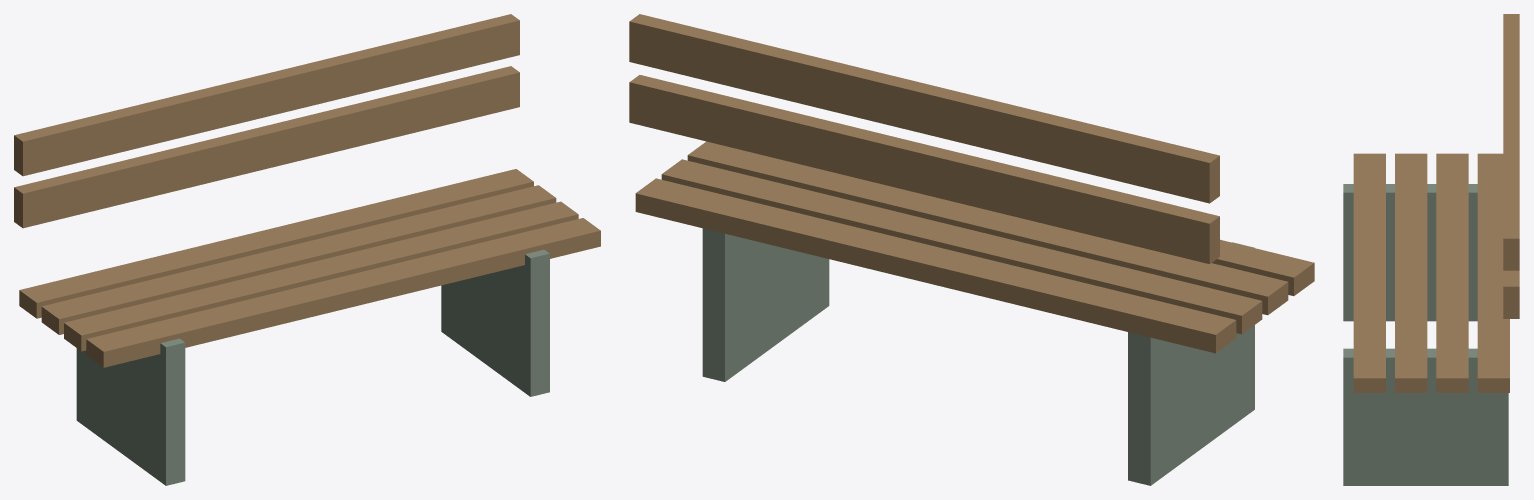
The model's file is bench.glb.
3 renders of one model, left to right at view 1: azimuth 30°, elevation 25°; view 2: azimuth 150°, elevation 25°; view 3: azimuth 270°, elevation 25°, orthographic. The views are drawn at different scales.
Visible parts, largest first — view 1: bench; view 2: bench; view 3: bench.
Part boxes in pixels (bbox=[...]): bench: bbox=[14, 14, 600, 485]; bench: bbox=[629, 14, 1314, 485]; bench: bbox=[1343, 14, 1519, 485].
Bounding box in the file's own units: 1.8 × 1.02 × 0.5975.
